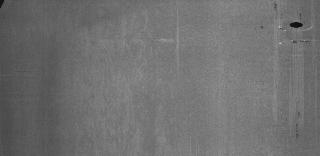punching hole: (287, 19, 305, 29)
